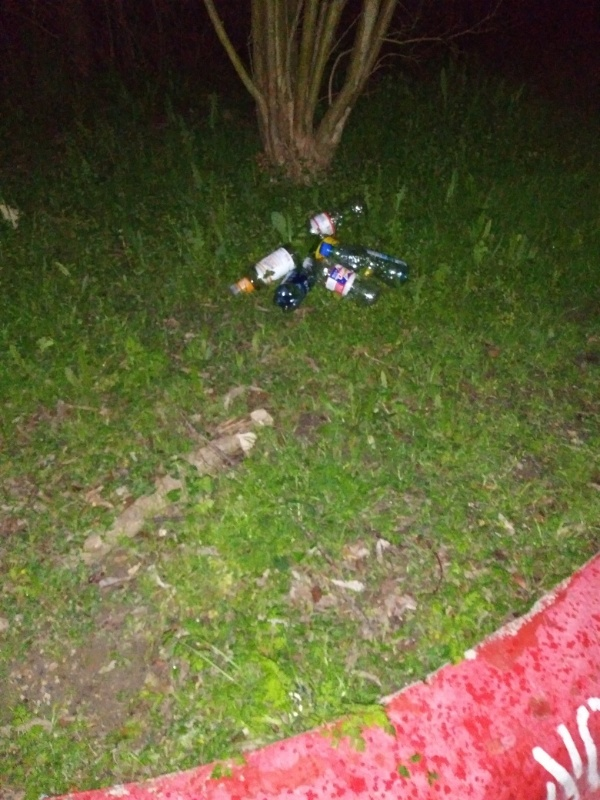bottle: (318, 242, 413, 290), (302, 254, 384, 309), (226, 242, 303, 300), (296, 194, 373, 240), (270, 267, 323, 314)
